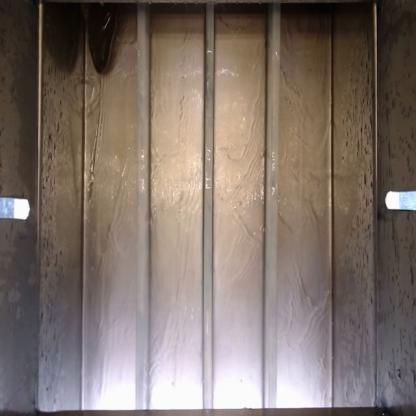pezw: (82, 1, 132, 76)
